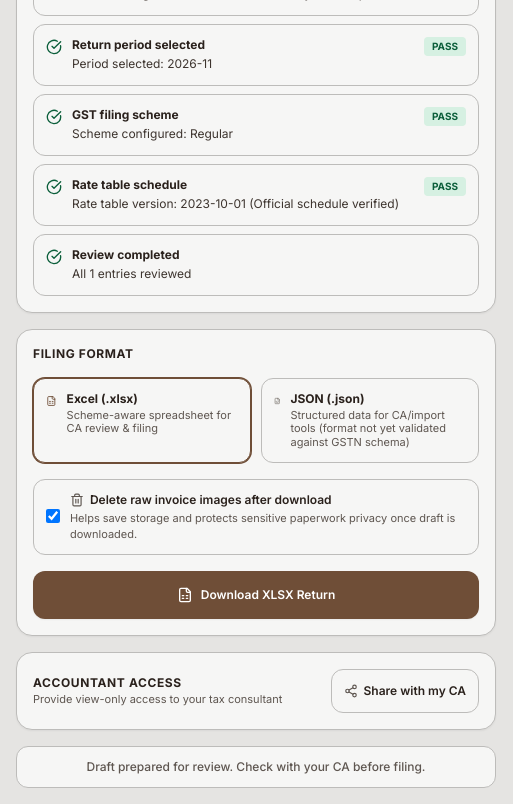
Test case: ExportScreen (Screen 4 UI Spec) › provides "Share with my CA" feature generating a read-only link
(page scrolled)
Expected: the heading "Accountant Access" is shown, [33,674,182,690]
Click the button "Share with my CA" at (405,691), box [330,669,479,713]
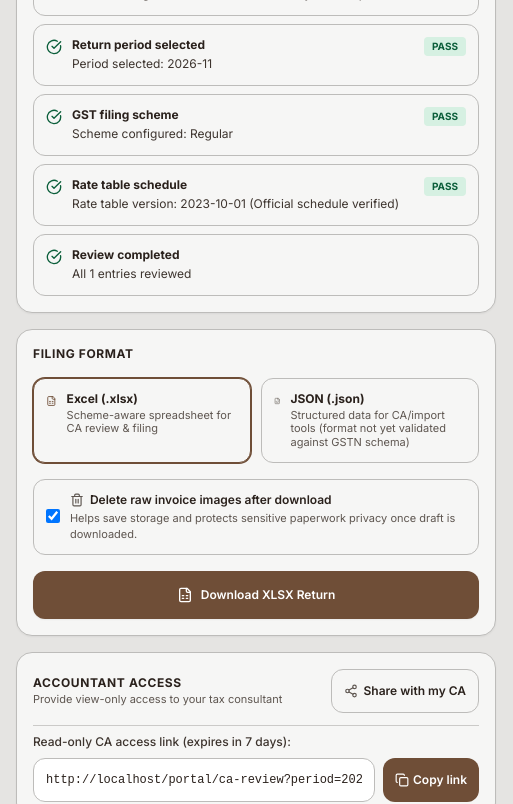
Expected: the text "Read-only CA access link (expires in 7 days):" is shown, [33,734,291,749]
Expected: the button "Copy link" is shown, [383,758,479,802]
